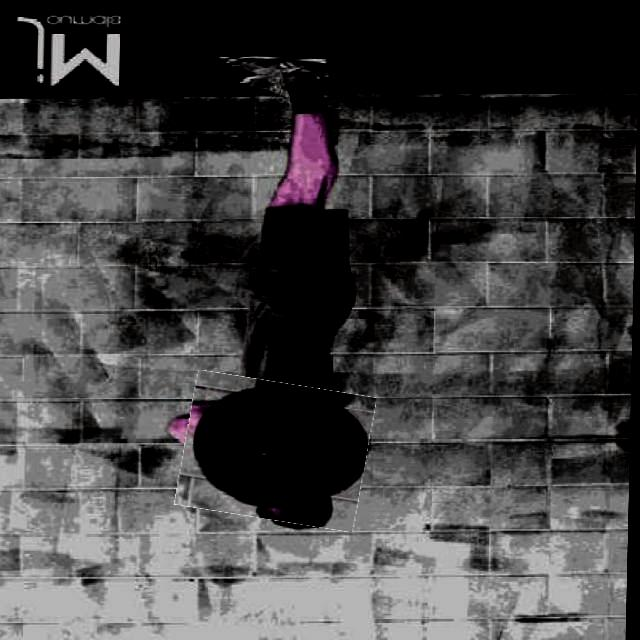barbell: (182, 377, 375, 525)
